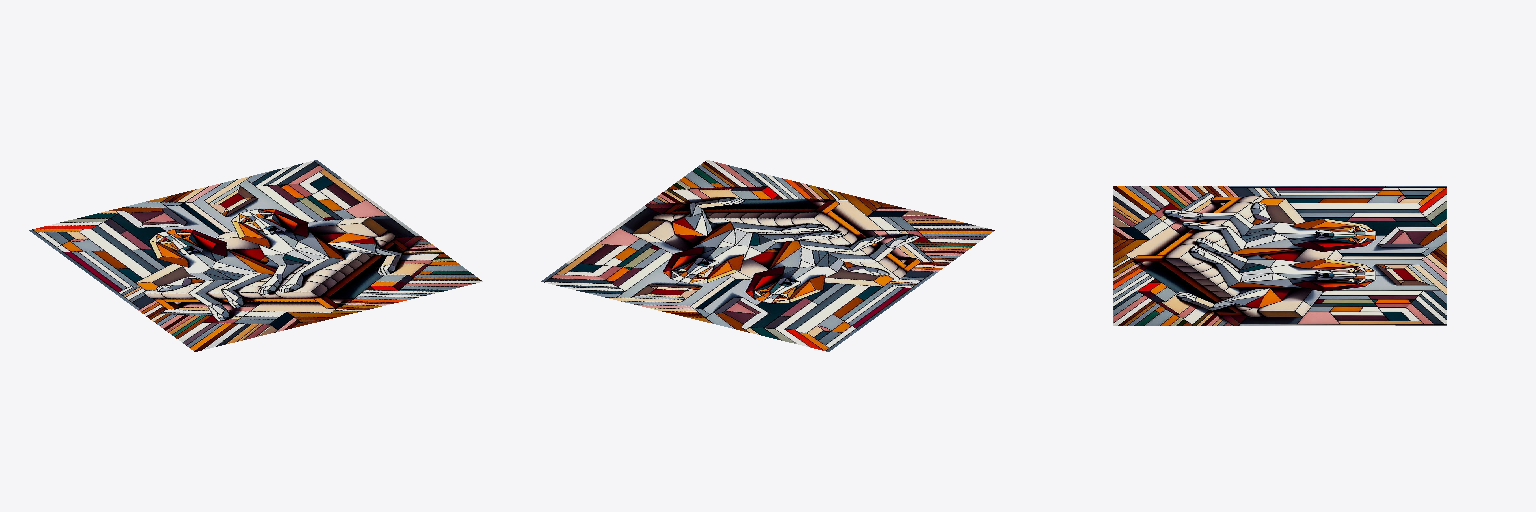
The picture shows the model from 3 angles: view 1: azimuth 30°, elevation 25°; view 2: azimuth 150°, elevation 25°; view 3: azimuth 270°, elevation 25°; orthographic projection.
Parts seen in each view (by area): view 1: static_textured_ground.obj; view 2: static_textured_ground.obj; view 3: static_textured_ground.obj.
Boxes of the visible parts, box(x1,y1,x2,y2) form: static_textured_ground.obj: box(29, 160, 482, 351); static_textured_ground.obj: box(541, 160, 994, 351); static_textured_ground.obj: box(1113, 186, 1446, 325).
Bounding box in the file's own units: 10 × 0 × 10.
Materials: 1 (1 with a texture image).